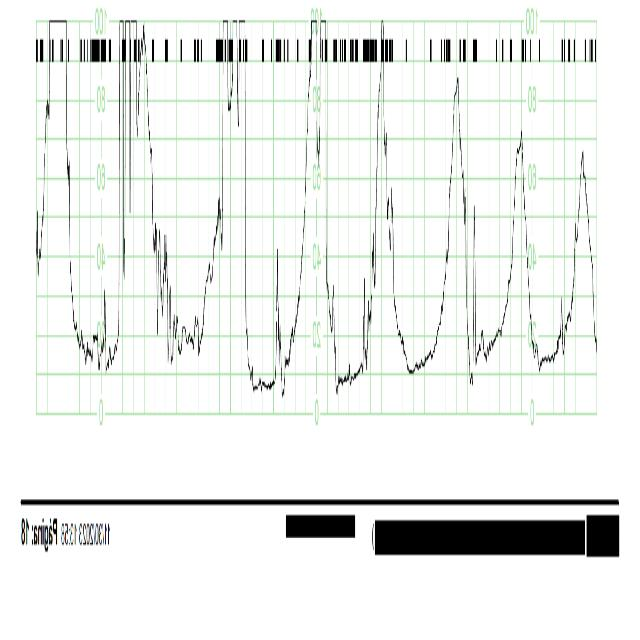contraction: (355, 18, 404, 350), (114, 23, 158, 334), (39, 19, 80, 348), (304, 17, 338, 380), (219, 27, 251, 374), (441, 77, 472, 384), (504, 125, 538, 365), (564, 158, 598, 359), (272, 247, 284, 388), (472, 210, 481, 361)
